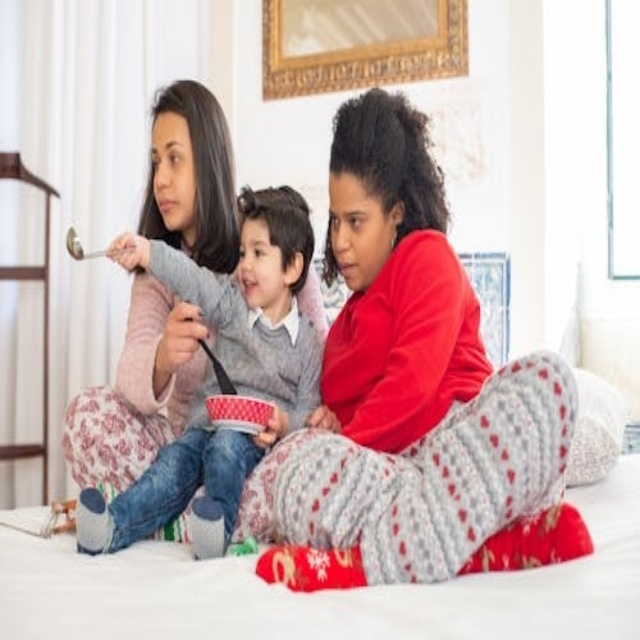Sin_gafas: (141, 134, 186, 178), (324, 195, 371, 236), (237, 234, 270, 268)
Sin_guantes: (156, 293, 214, 379), (105, 220, 151, 274), (256, 402, 288, 442), (305, 402, 340, 434)
Sin_mascara: (148, 190, 186, 226), (332, 255, 367, 287), (237, 274, 265, 303)
